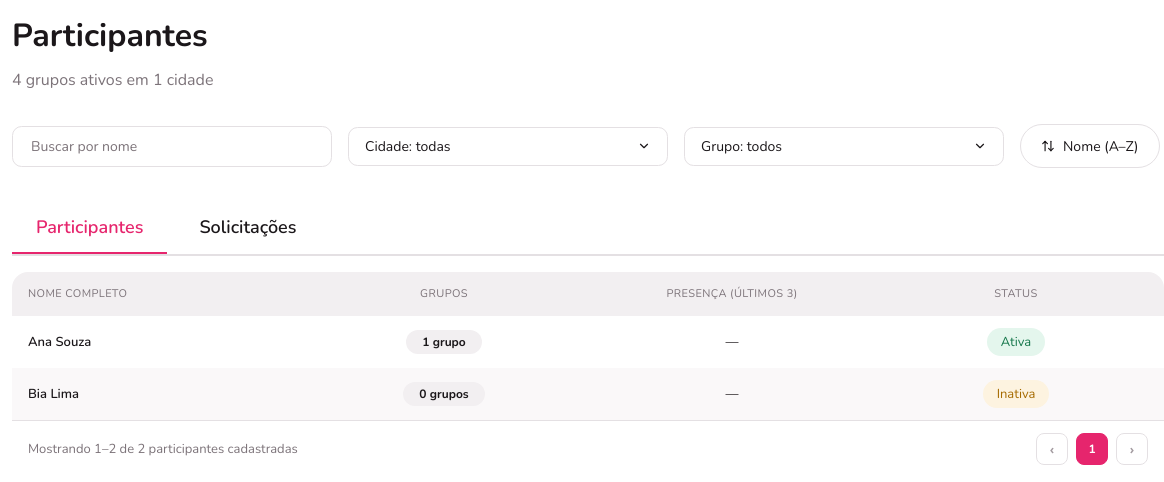
Participants › aba de solicitações › lista as solicitações pendentes e desabilita os filtros de cidade e grupo
Click the tab "Solicitações" at (248, 228), box [175,200,320,256]
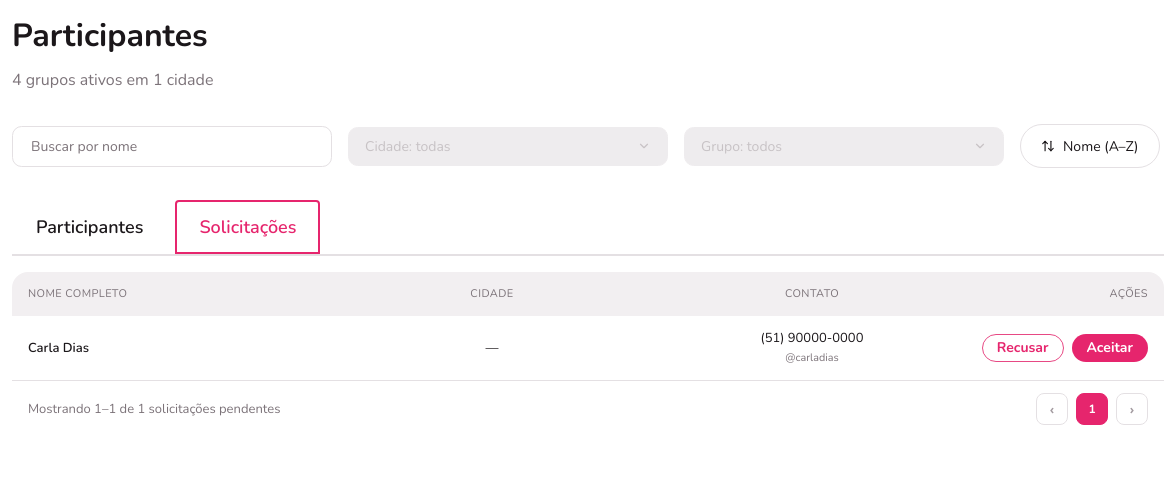
Check: the button "Cidade: todas" is disabled, box [348,126,668,166]
Check: the button "Grupo: todos" is disabled, box [684,126,1004,166]
